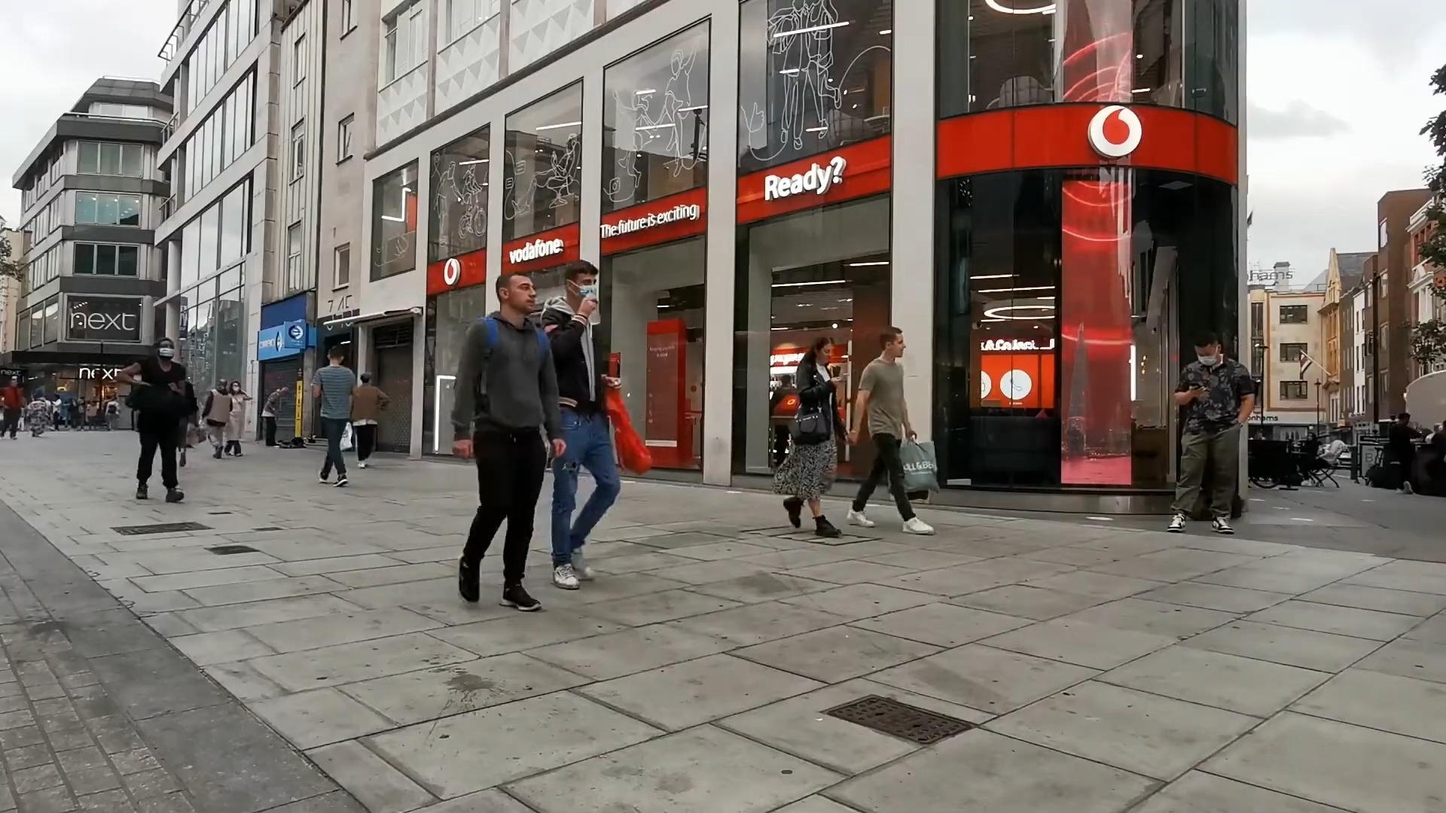no-helmet: (495, 270, 538, 315), (563, 257, 599, 301), (1192, 327, 1223, 367), (879, 326, 907, 358), (808, 335, 835, 364), (155, 336, 176, 361), (326, 344, 346, 364), (229, 380, 241, 394)
